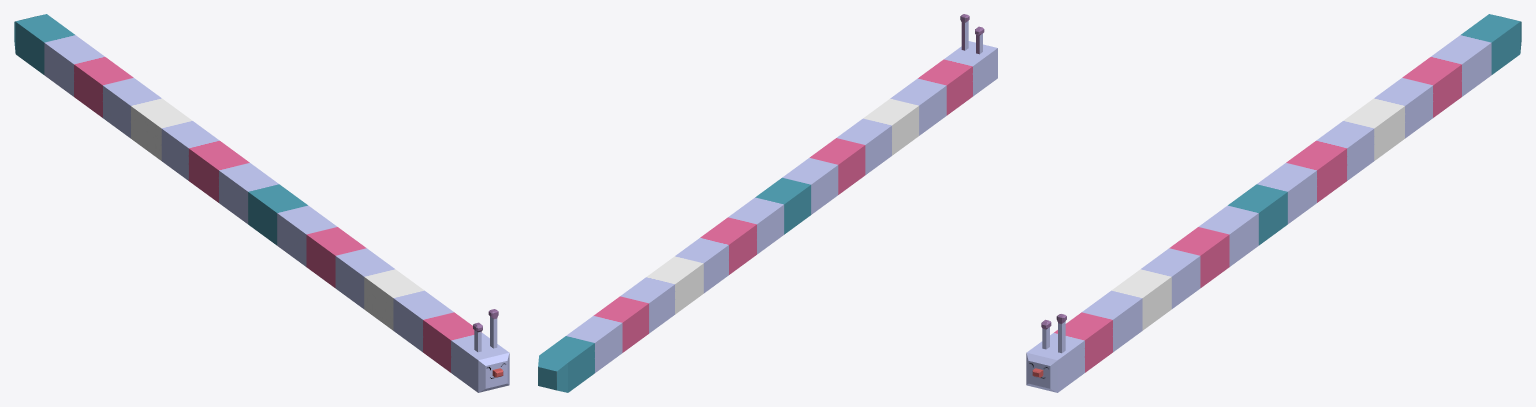
File: transworm.glb
3 views of the same model, side by side, from view 1: azimuth 30°, elevation 25°; view 2: azimuth 150°, elevation 25°; view 3: azimuth 330°, elevation 25° (orthographic). The views are drawn at different scales.
Parts seen in each view (by area): view 1: Cube; view 2: Cube; view 3: Cube.
Boxes of the visible parts, x1,y1,x2,y2 form: Cube: [14, 14, 509, 392]; Cube: [538, 14, 997, 392]; Cube: [1026, 14, 1521, 392].
Bounding box in the file's own units: 13.9 × 29.35 × 366.
1 material, 1 textured.
